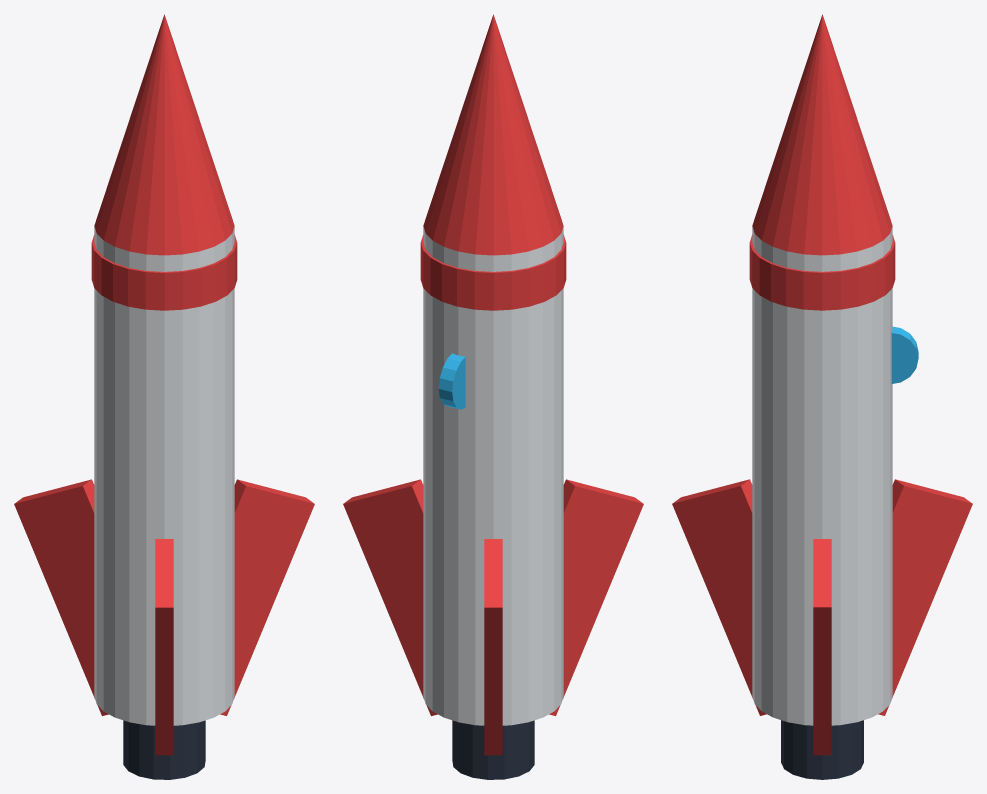
File: rocket.glb
3 views of the same model, side by side, from view 1: azimuth 30°, elevation 25°; view 2: azimuth 150°, elevation 25°; view 3: azimuth 270°, elevation 25° (orthographic).
Parts seen in each view (by area): view 1: part_0, part_1, part_5, part_6, part_2, part_7, part_4; view 2: part_0, part_1, part_5, part_7, part_2, part_6, part_4, part_3; view 3: part_0, part_1, part_6, part_7, part_2, part_5, part_4, part_3.
Part boxes in pixels (<box>): part_0: <box>94,226,234,725</box>; part_1: <box>94,14,234,255</box>; part_5: <box>220,479,314,715</box>; part_6: <box>14,479,108,715</box>; part_2: <box>91,235,237,310</box>; part_7: <box>155,539,173,755</box>; part_4: <box>123,720,205,779</box>; part_0: <box>423,226,563,725</box>; part_1: <box>423,14,563,255</box>; part_5: <box>343,479,437,715</box>; part_7: <box>549,479,643,715</box>; part_2: <box>420,235,566,310</box>; part_6: <box>484,539,502,755</box>; part_4: <box>452,720,534,779</box>; part_3: <box>438,353,465,409</box>; part_0: <box>752,226,892,725</box>; part_1: <box>752,14,892,255</box>; part_6: <box>878,479,972,715</box>; part_7: <box>672,479,766,715</box>; part_2: <box>749,235,895,310</box>; part_5: <box>813,539,831,755</box>; part_4: <box>781,720,863,779</box>; part_3: <box>891,326,918,383</box>.
Bounding box in the file's own units: 1 × 3.18 × 1.16.
